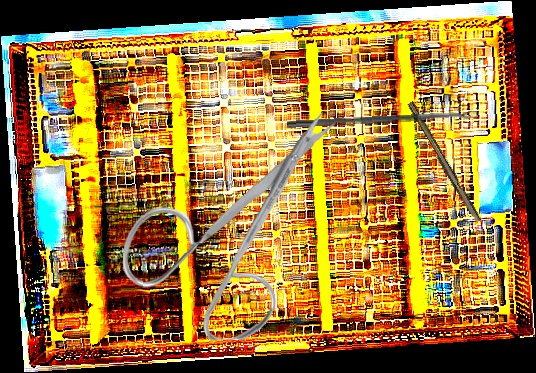Iris Scissors: (122, 108, 336, 342)
Scalpel Handle: (403, 100, 484, 225)
Surgical Spoon: (286, 111, 478, 129)
